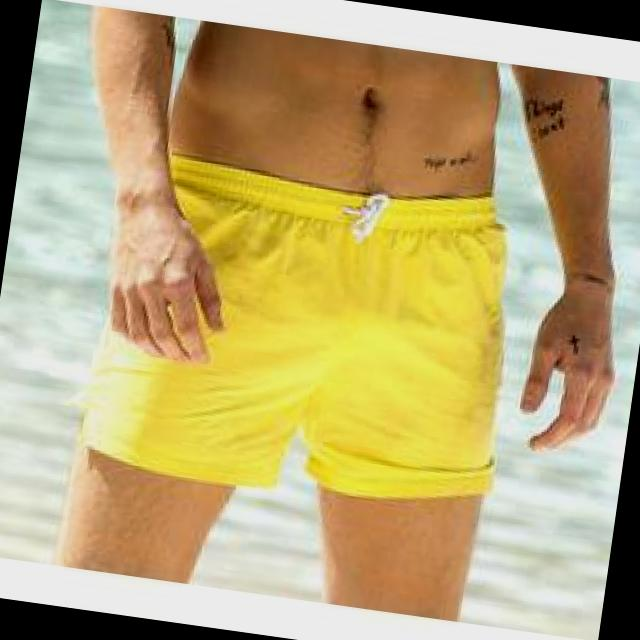short: (74, 143, 534, 523)
